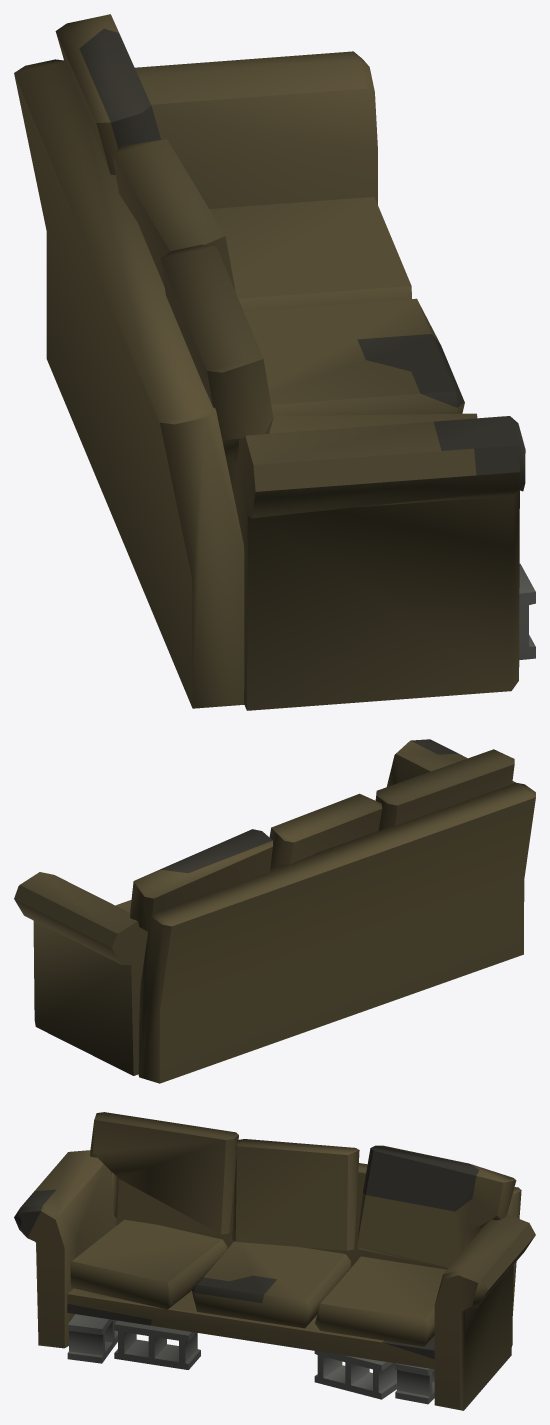
Rendered from ct_couch.glb.
3 views of the same model, one above another, from view 1: azimuth 30°, elevation 25°; view 2: azimuth 150°, elevation 25°; view 3: azimuth 270°, elevation 25° (orthographic). The views are drawn at different scales.
Visible parts, largest first — view 1: ct_couch; view 2: ct_couch; view 3: ct_couch.
Part boxes in pixels (left/top/right/bottom): ct_couch: left=14, top=14, right=535, bottom=710; ct_couch: left=14, top=739, right=535, bottom=1083; ct_couch: left=14, top=1112, right=535, bottom=1410.
Size of the model in its own units: 2 by 1.23 by 3.12.
